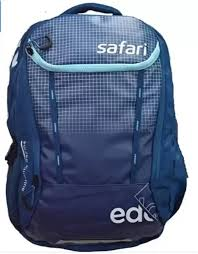backpack: (4, 2, 188, 251)
